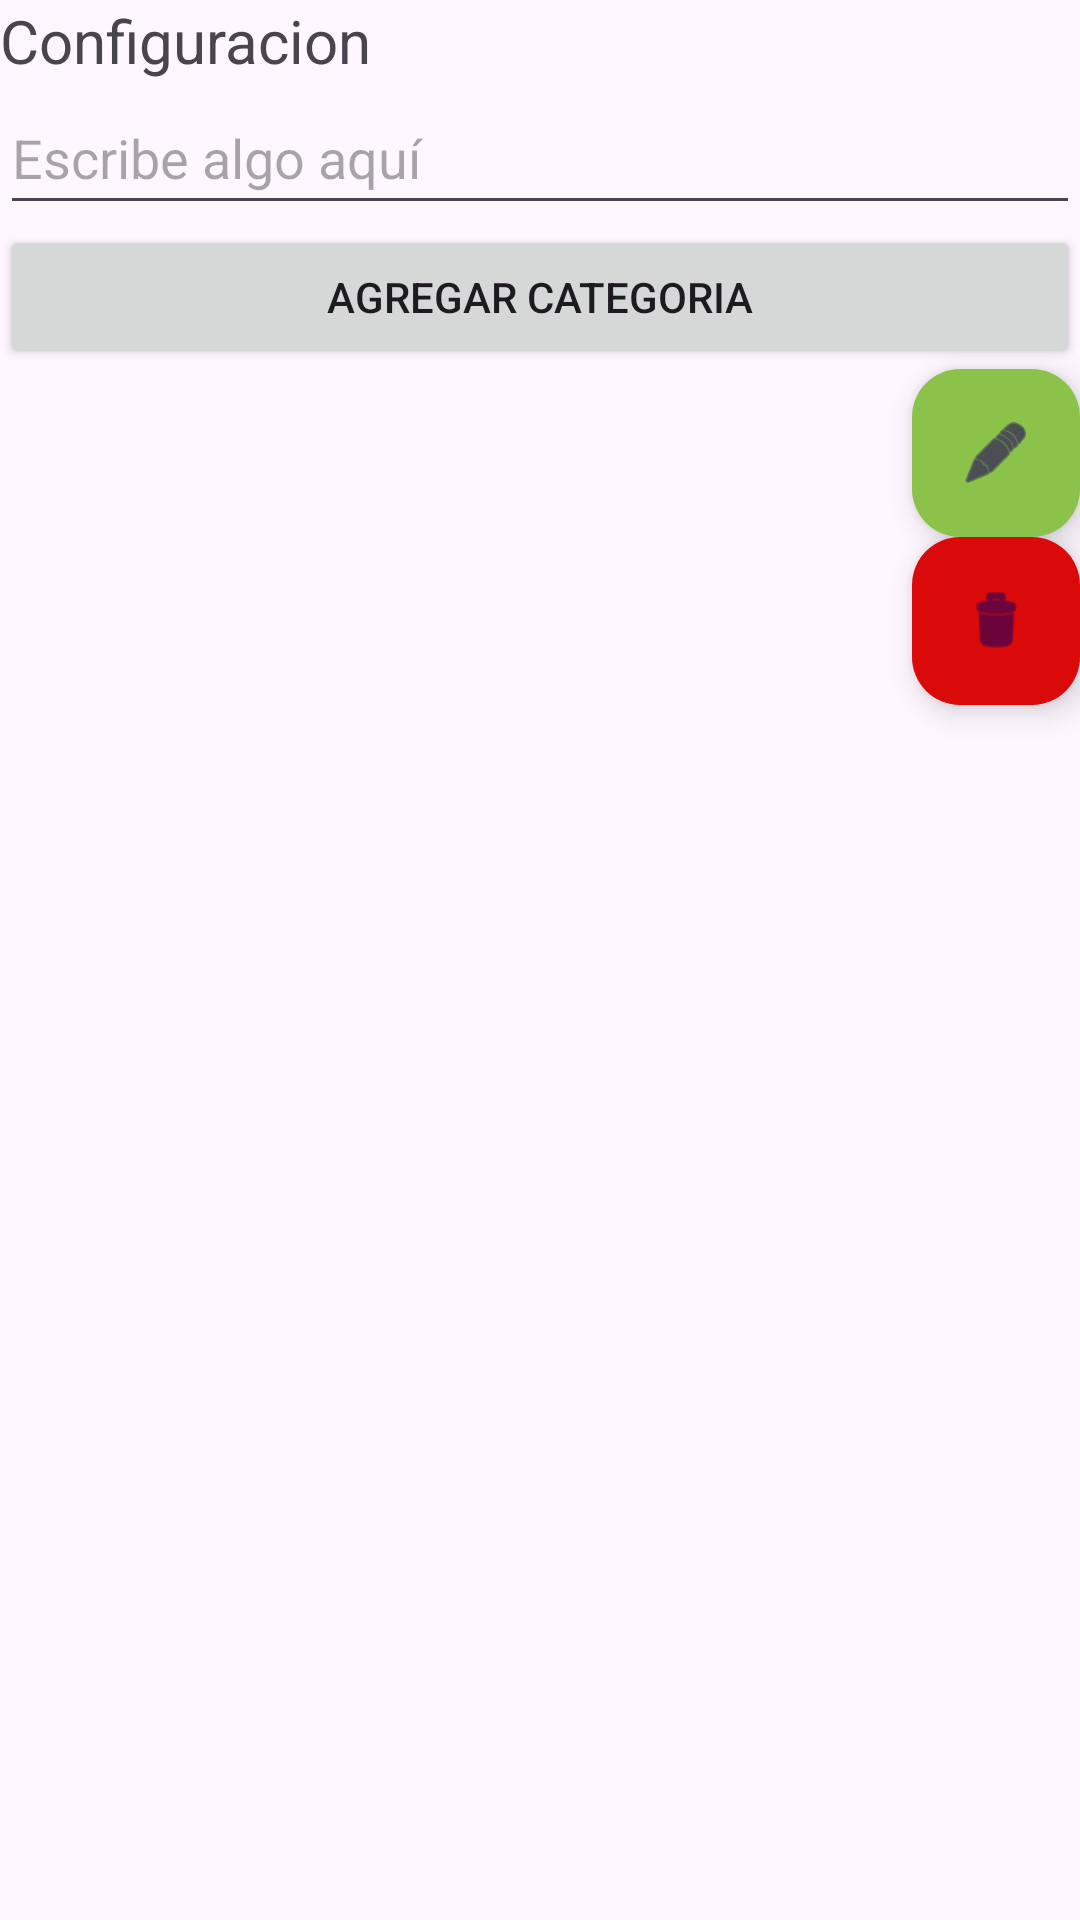

Named icons in this screenshot (1080*1920) and their bounding boxes, (x1, y1, x2, y2):
delete: (912, 537, 1080, 705)
edit: (912, 369, 1080, 537)
